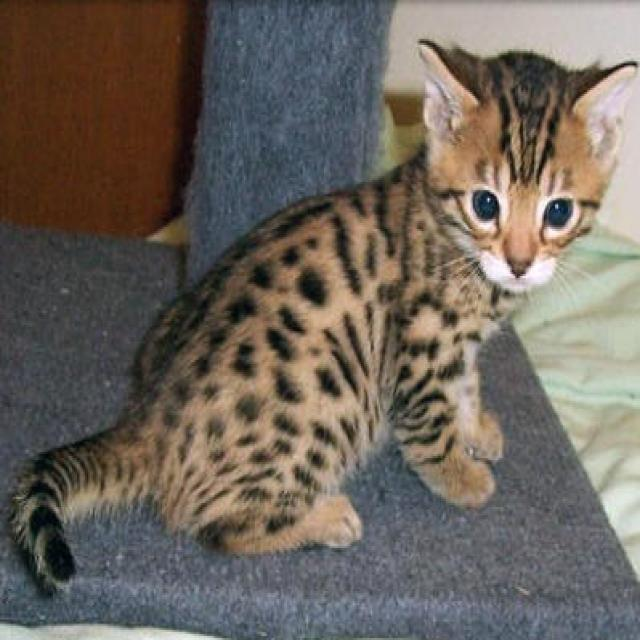Bengal: (412, 29, 632, 302)
